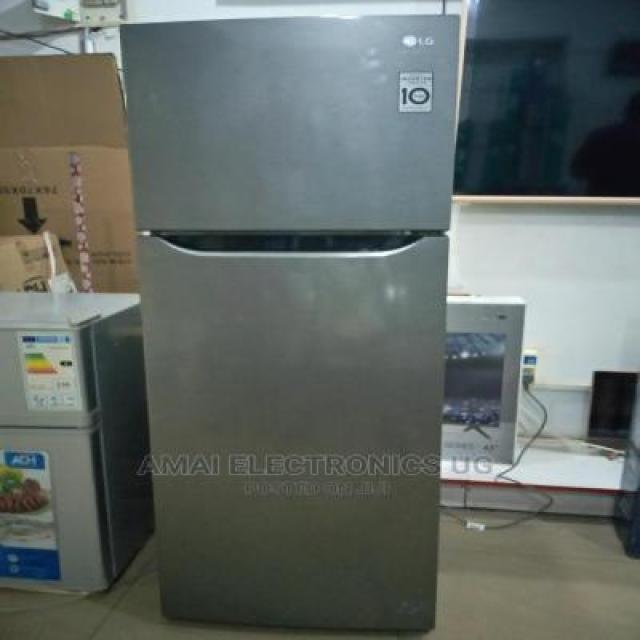refrigerator: (120, 11, 464, 632), (0, 304, 154, 600)
